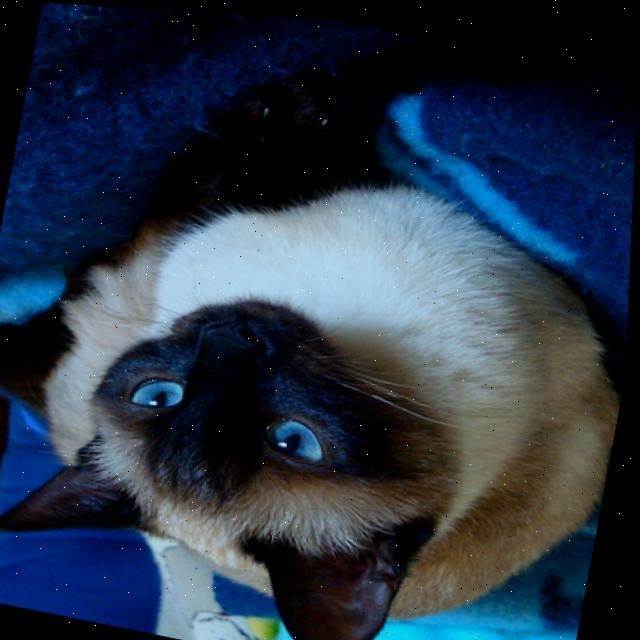Siamese: (0, 29, 639, 640)
